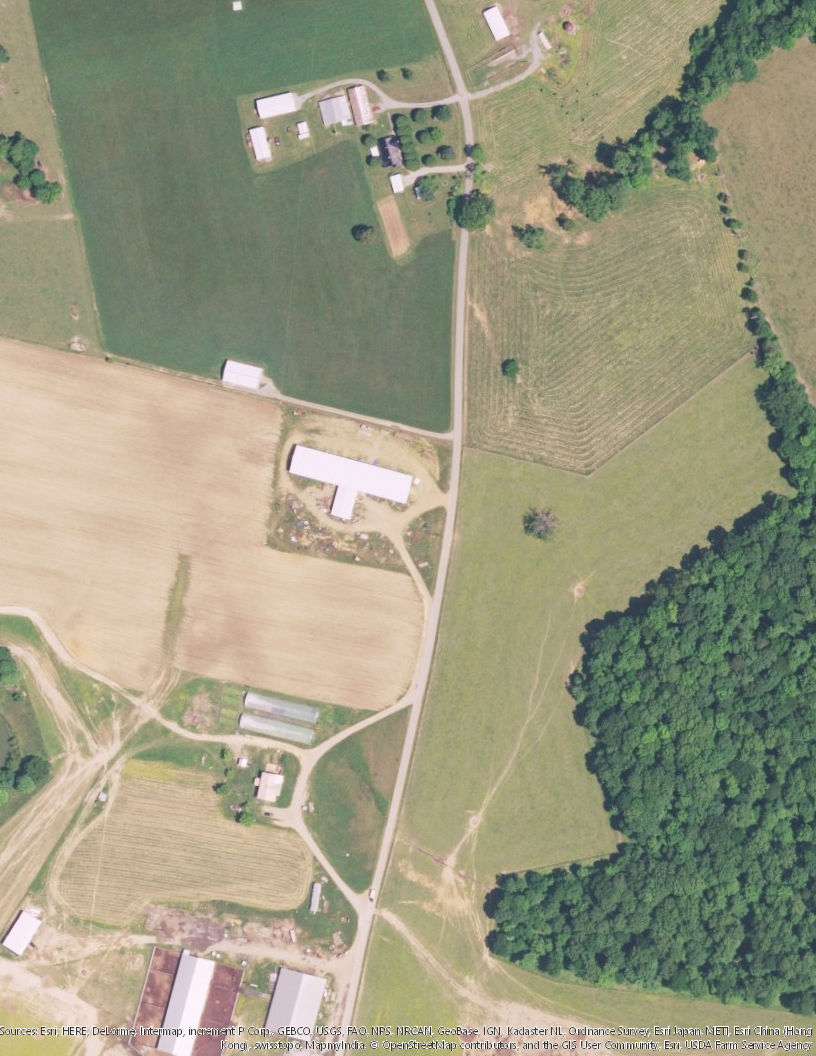cafo: (273, 441, 427, 538)
